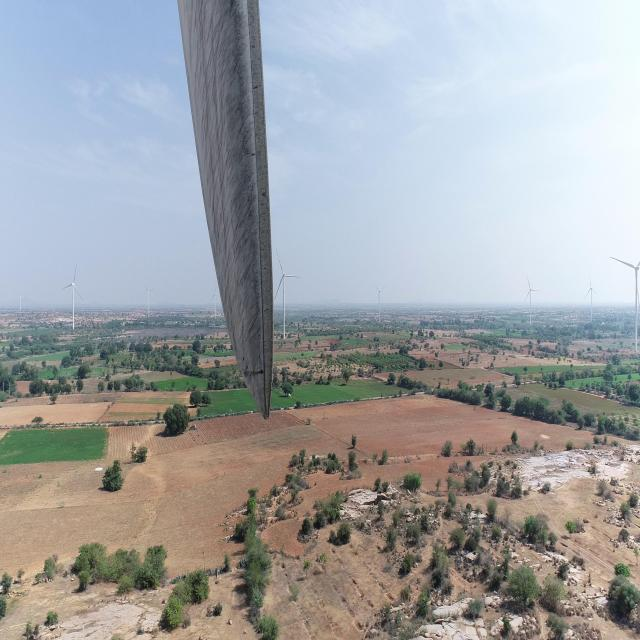Dirt: (179, 0, 276, 420)
Pin Hole: (255, 366, 266, 380)
